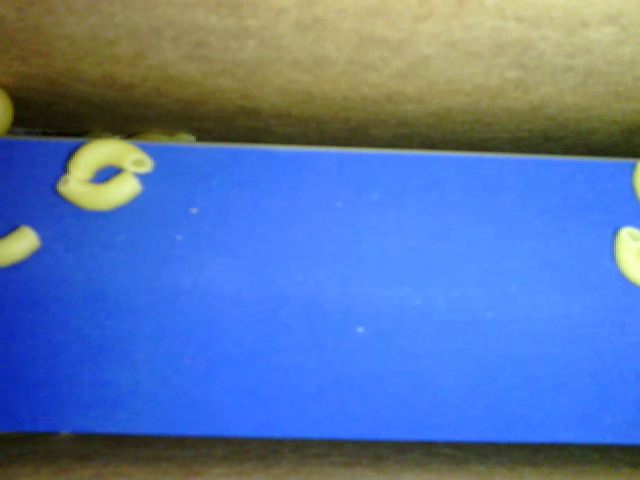elbow: (65, 134, 154, 184), (54, 173, 144, 213), (608, 223, 639, 287), (1, 223, 43, 266)
